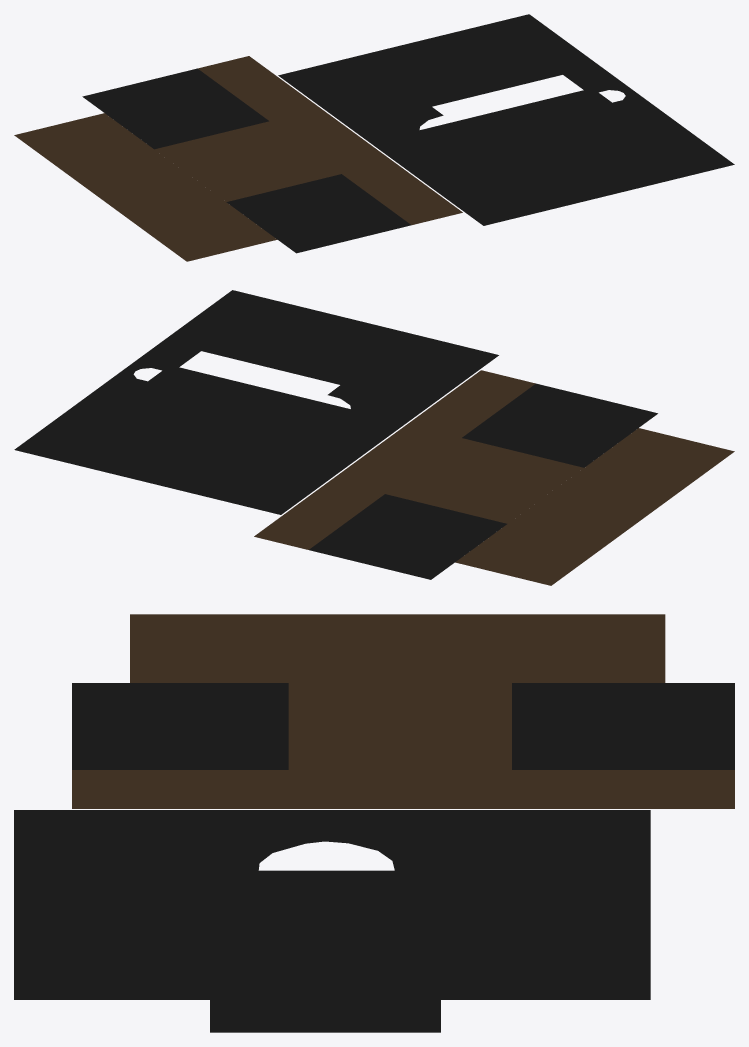
Rendered from floor fix.FBX.
3 views of the same model, one above another, from view 1: azimuth 30°, elevation 25°; view 2: azimuth 150°, elevation 25°; view 3: azimuth 270°, elevation 25° (orthographic). The views are drawn at different scales.
Visible parts, largest first — view 1: Plane002; view 2: Plane002; view 3: Plane002.
Boxes of the visible parts, x1,y1,x2,y2 form: Plane002: (14,14,734,261); Plane002: (14,290,734,585); Plane002: (14,614,734,1032).
Size of the model in its own units: 2376 by 104 by 1878.
